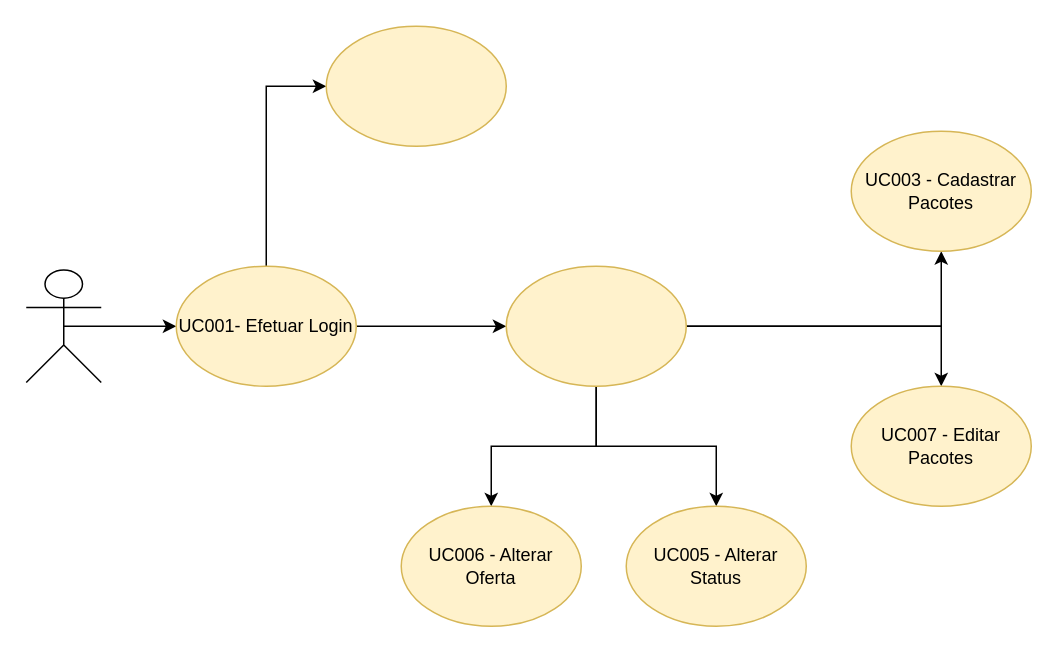
Some shapes in this 1058 by 653 pixel diagram are drawn without their labels. Here are the shapes that lost their labels. From the top down, the centre of each, then its label:
the point at 415,85: UC004 - Efetuar Logout
the point at 63,325: Actor
the point at 595,325: UC002- Listar Pacotes
